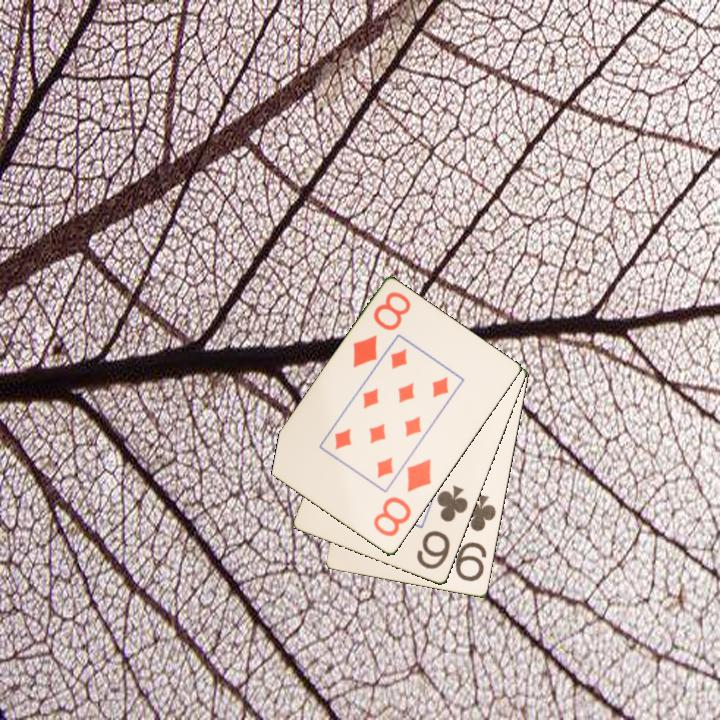6c: (413, 482, 471, 573)
8d: (370, 455, 434, 540), (349, 288, 414, 371)
9c: (452, 491, 499, 585)
